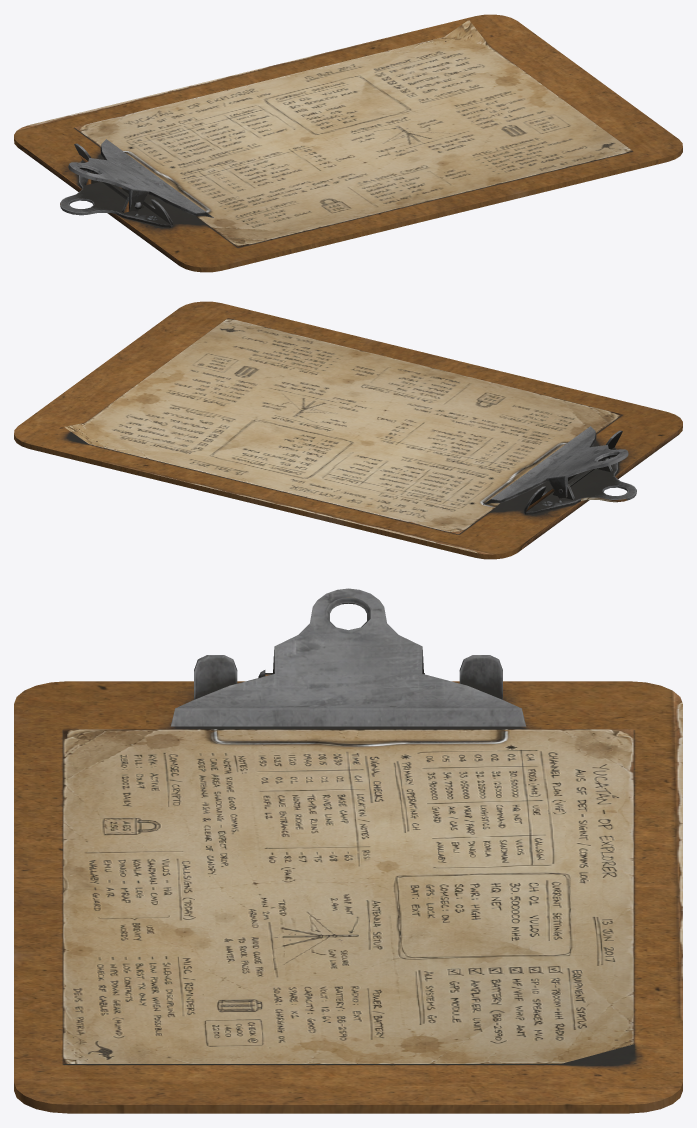
The model's file is clipboard_A.fbx.
3 renders of one model, top to bottom at view 1: azimuth 30°, elevation 25°; view 2: azimuth 150°, elevation 25°; view 3: azimuth 270°, elevation 25°, orthographic. The views are drawn at different scales.
Visible parts, largest first — view 1: Object_49; view 2: Object_49; view 3: Object_49.
Part boxes in pixels (left/top/right/bottom): Object_49: left=14, top=14, right=682, bottom=272; Object_49: left=14, top=301, right=682, bottom=559; Object_49: left=14, top=588, right=682, bottom=1113.
Bounding box in the file's own units: 36.41 × 2.95 × 22.67.
